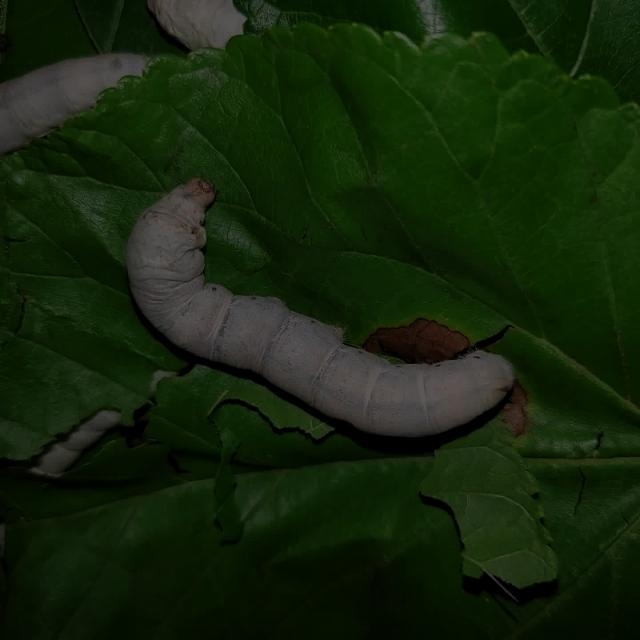Healthy: (113, 161, 526, 446)
